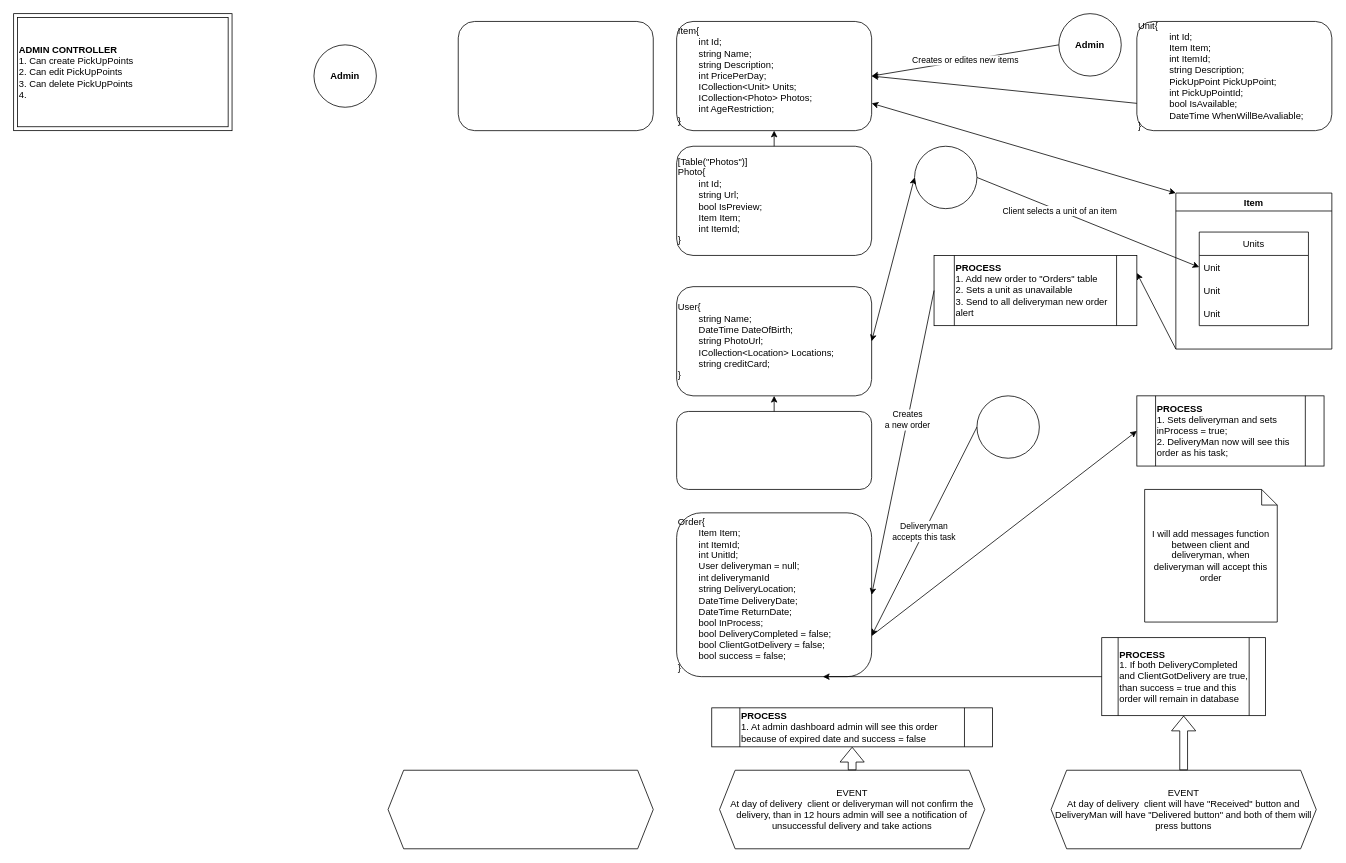
The diagram is 1346 pixels wide and 863 high, and some of its shapes have lost their labels. The centre of each missing label's shape, as x and y in pixels:
"Client" goes at point (945, 177).
"Deliveryman" goes at point (1007, 426).
"EVENT A day of returning item" goes at point (520, 809).
"Location{ int Id; string Location; }" goes at point (774, 450).
"PickUpPoint{ int Id; ICollection<Unit>Units; Location Location; }" goes at point (555, 76).
